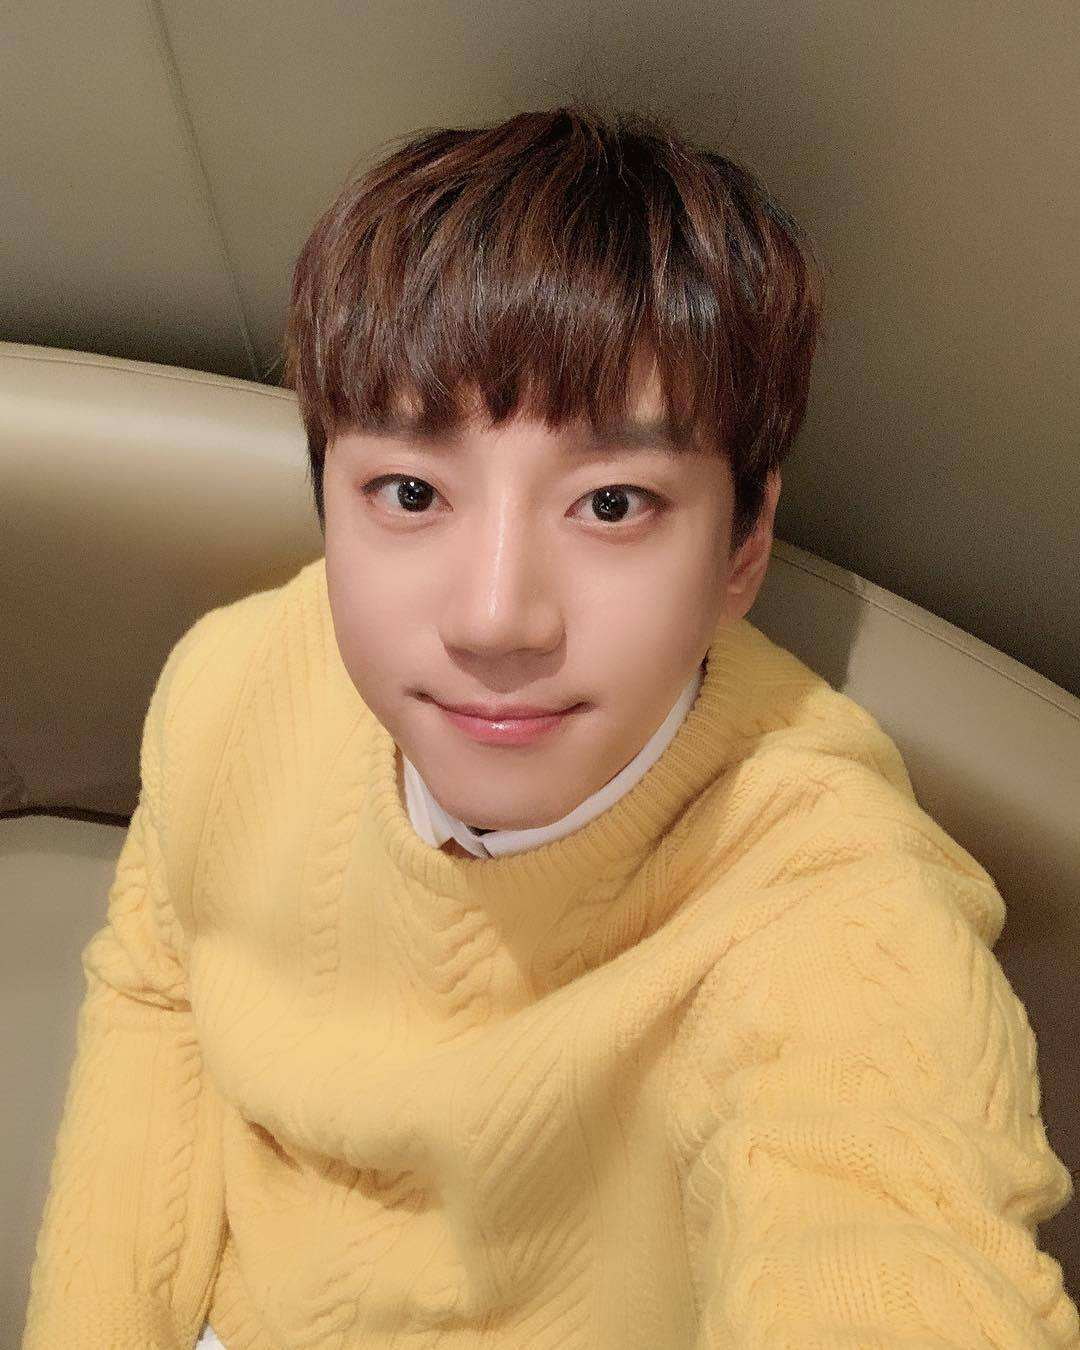person: (245, 57, 949, 1350)
